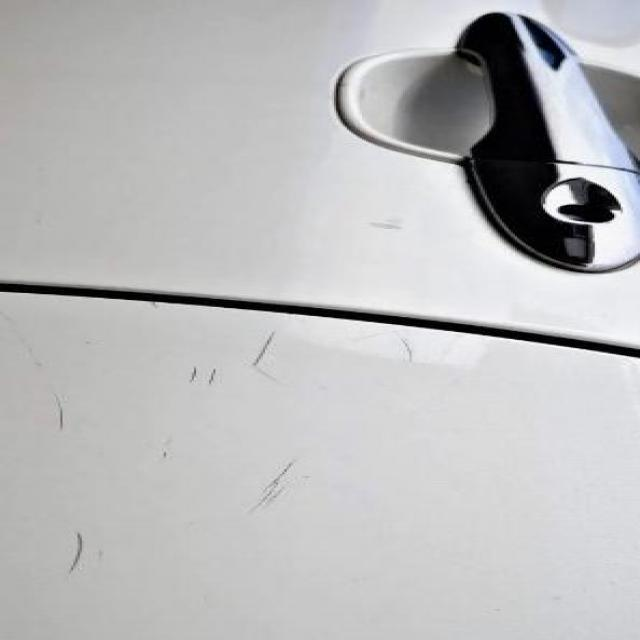scratch: (169, 326, 305, 394), (223, 454, 320, 520), (22, 394, 104, 438)
